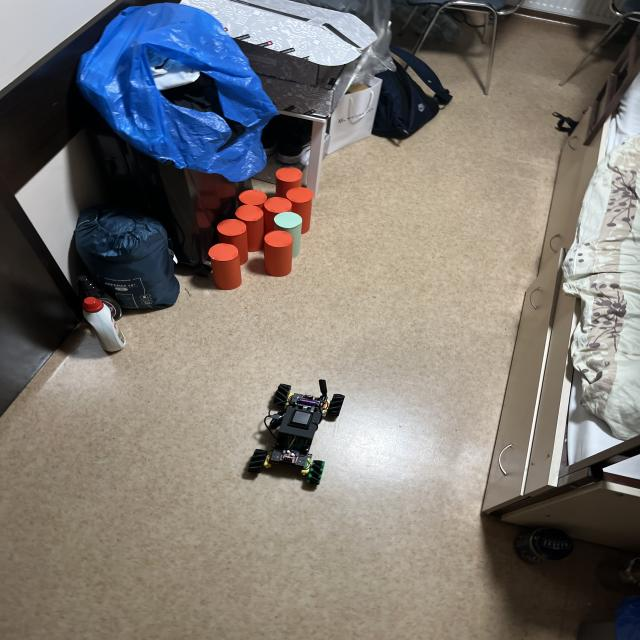robot: (247, 379, 345, 484)
